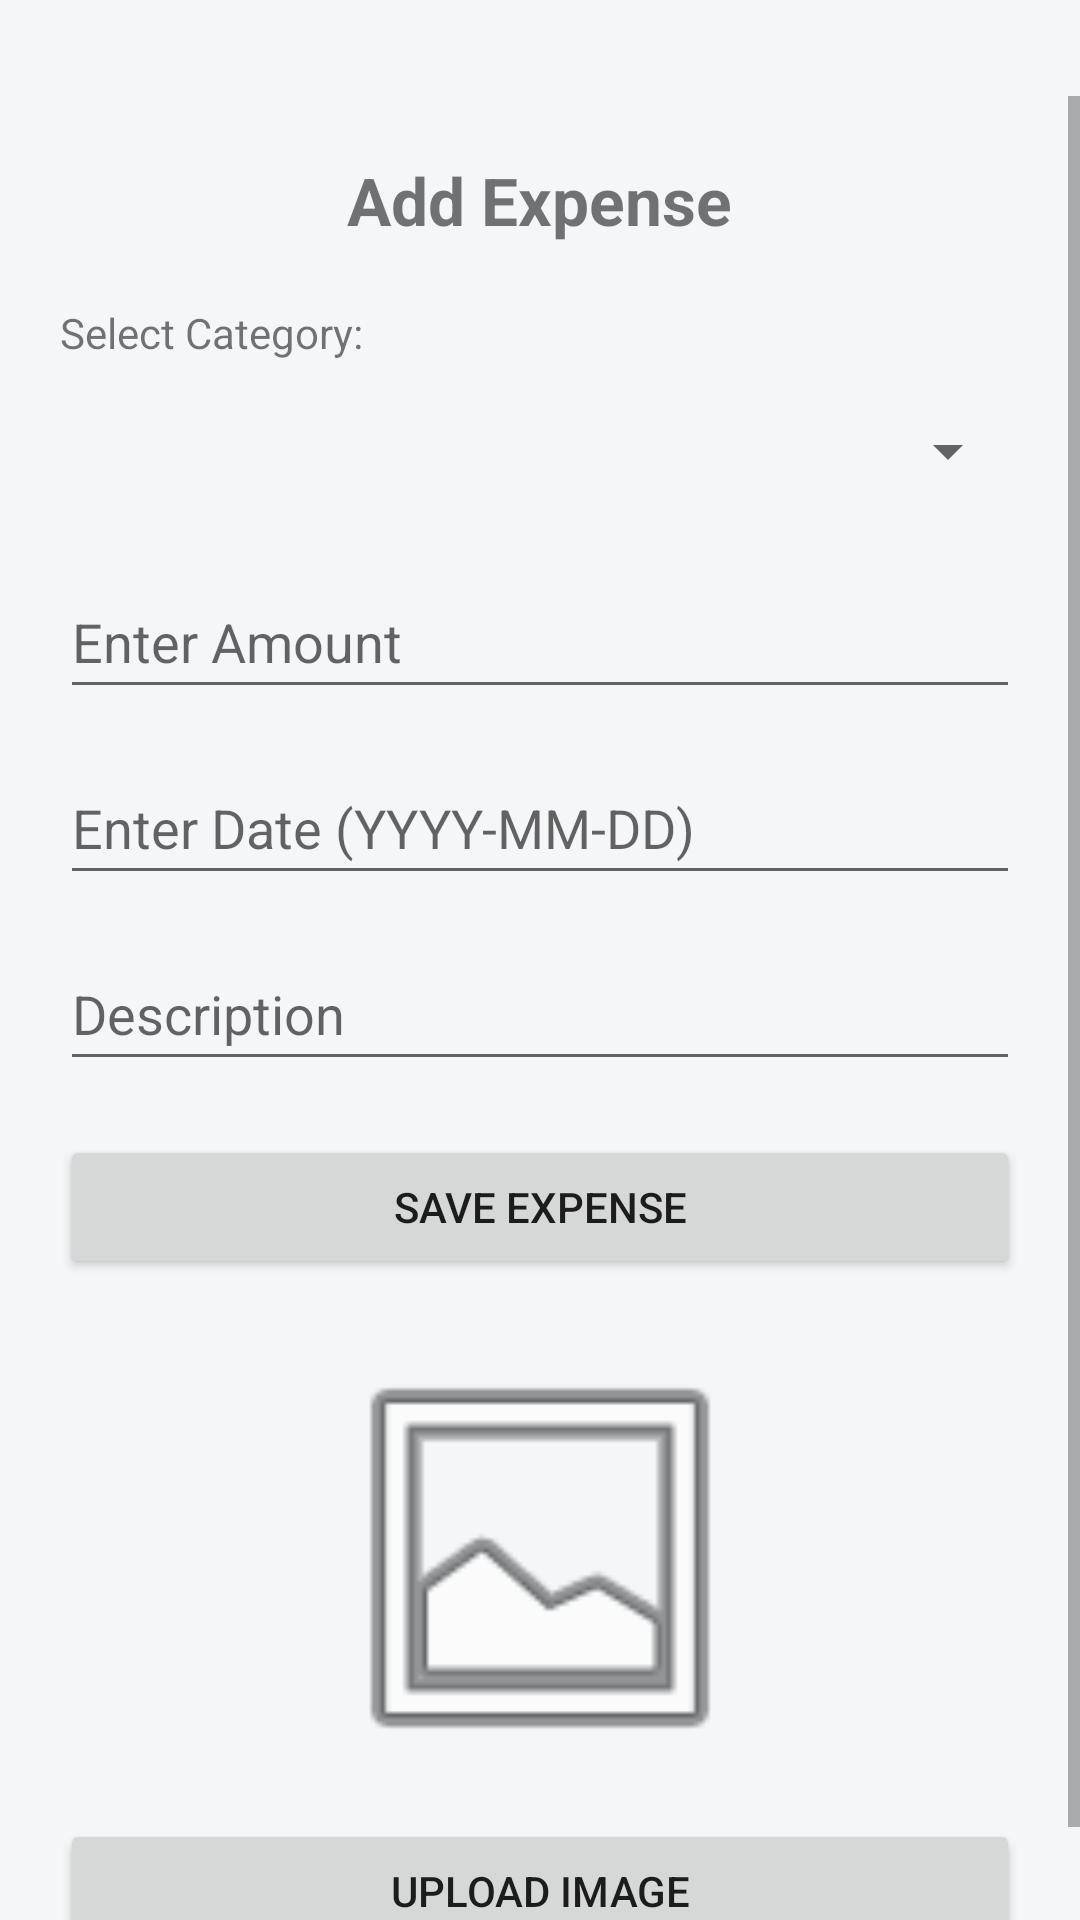

Point at icon controls on the screen. Image size 1080px x 1920px, points as point (x, y).
Expense image preview: point (540, 1558)
